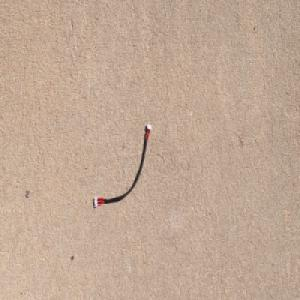Wire: (93, 123, 152, 208)
